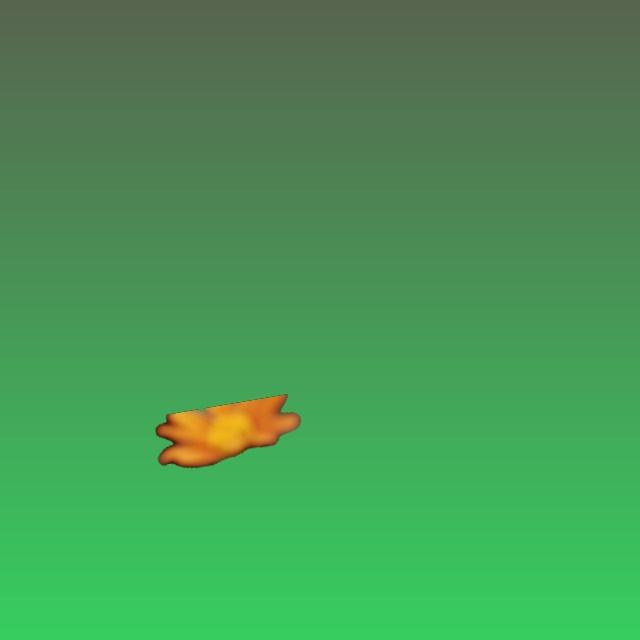dahlia: (156, 394, 300, 467)
